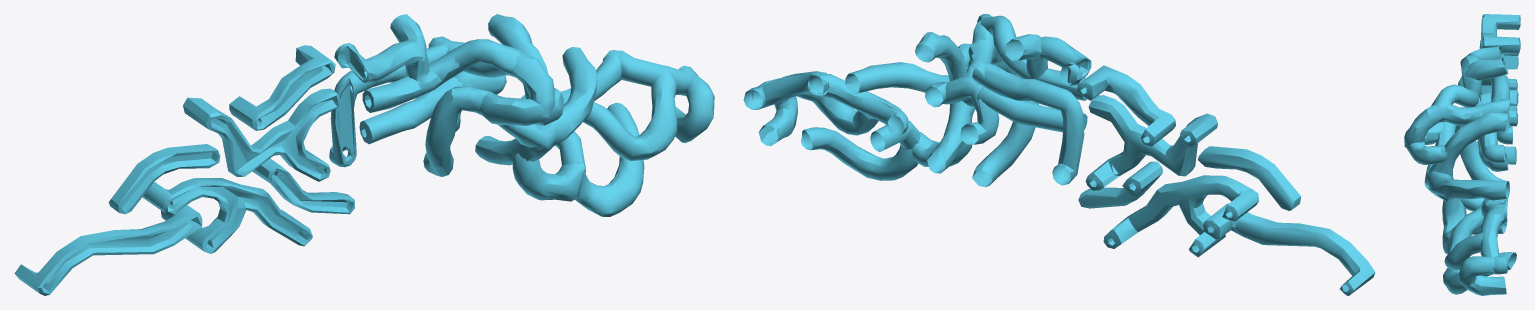
The model's file is smoothER.glb.
3 renders of one model, left to right at view 1: azimuth 30°, elevation 25°; view 2: azimuth 150°, elevation 25°; view 3: azimuth 270°, elevation 25°, orthographic. The views are drawn at different scales.
Visible parts, largest first — view 1: Smooth ER; view 2: Smooth ER; view 3: Smooth ER.
Part boxes in pixels (box(x1,y1,x2,y2)): Smooth ER: box(14, 14, 714, 295); Smooth ER: box(743, 14, 1375, 295); Smooth ER: box(1404, 14, 1520, 295).
Bounding box in the file's own units: 12.47 × 3.89 × 2.47.
